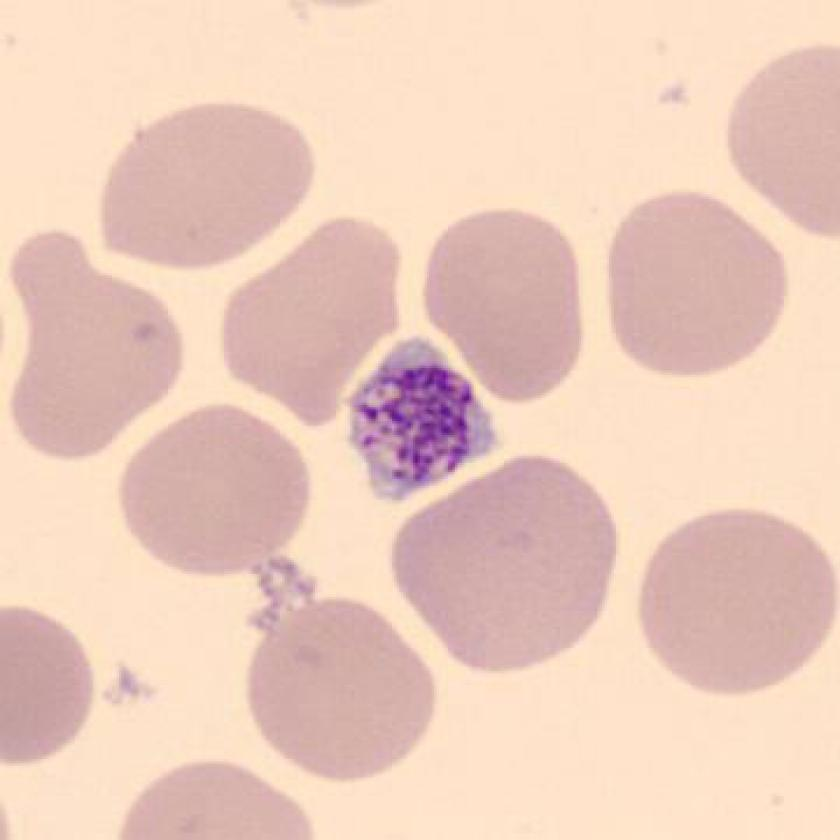platelets: (333, 337, 508, 506)
